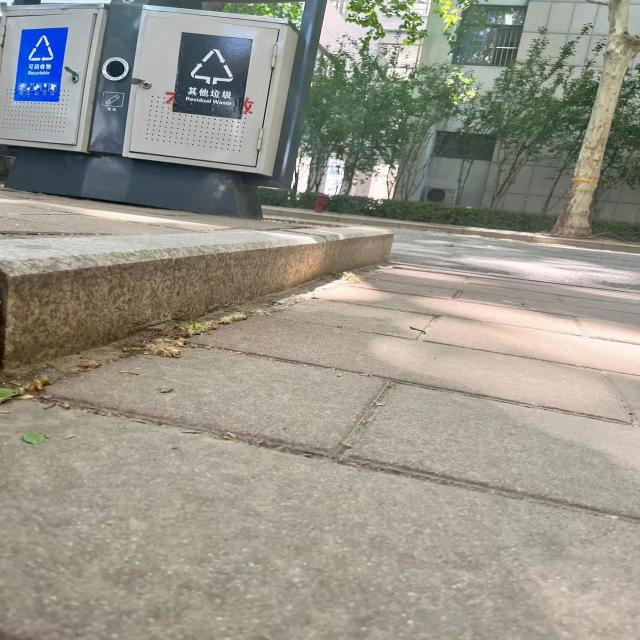curb: (1, 224, 399, 374)
